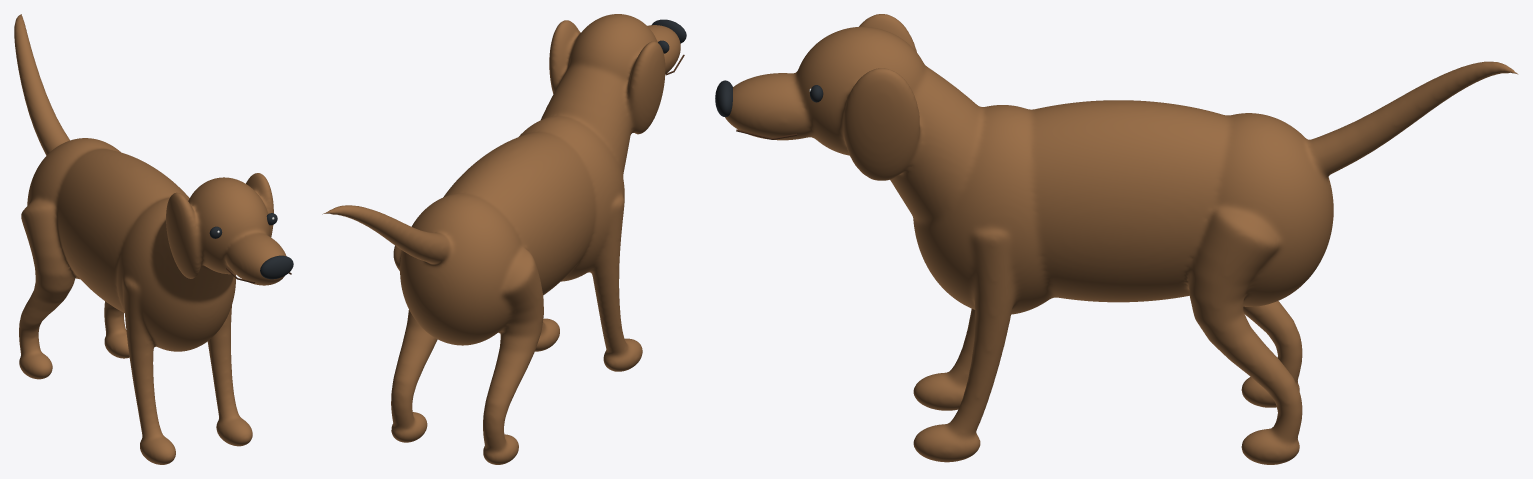
The model's file is dog.glb.
3 views of the same model, side by side, from view 1: azimuth 30°, elevation 25°; view 2: azimuth 150°, elevation 25°; view 3: azimuth 270°, elevation 25° (orthographic). The views are drawn at different scales.
Parts seen in each view (by area): view 1: Dog continuous body, Nose; view 2: Dog continuous body; view 3: Dog continuous body.
Boxes of the visible parts, <box> form: Dog continuous body: <box>14,14,286,464</box>; Nose: <box>260,255,293,279</box>; Dog continuous body: <box>322,14,680,464</box>; Dog continuous body: <box>725,14,1518,464</box>.
Size of the model in its own units: 0.4129 by 0.9203 by 1.66.
